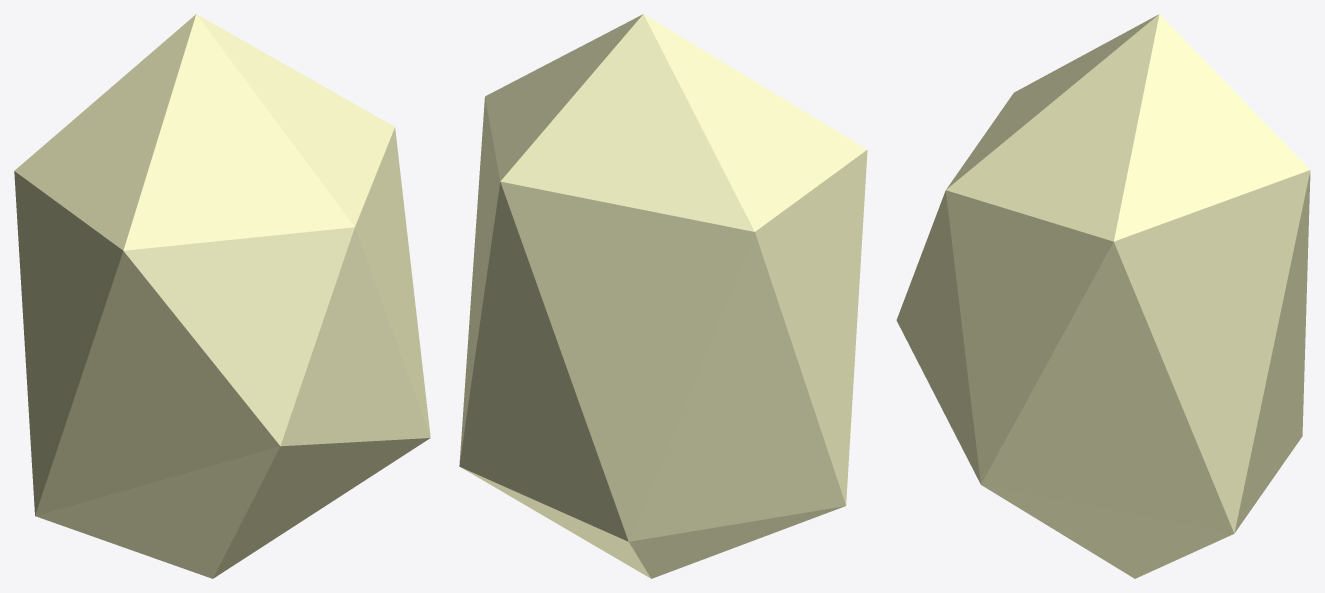
The model's file is YellowCrystal.fbx.
The picture shows the model from 3 angles, left to right: view 1: azimuth 30°, elevation 25°; view 2: azimuth 150°, elevation 25°; view 3: azimuth 270°, elevation 25°; orthographic projection. The views are drawn at different scales.
Visible parts, largest first — view 1: YellowCrystal; view 2: YellowCrystal; view 3: YellowCrystal.
Part boxes in pixels (box(x1,y1,x2,y2)): YellowCrystal: box(14, 14, 430, 578); YellowCrystal: box(459, 14, 867, 578); YellowCrystal: box(896, 14, 1310, 578).
Size of the model in its own units: 100 by 150 by 100.
